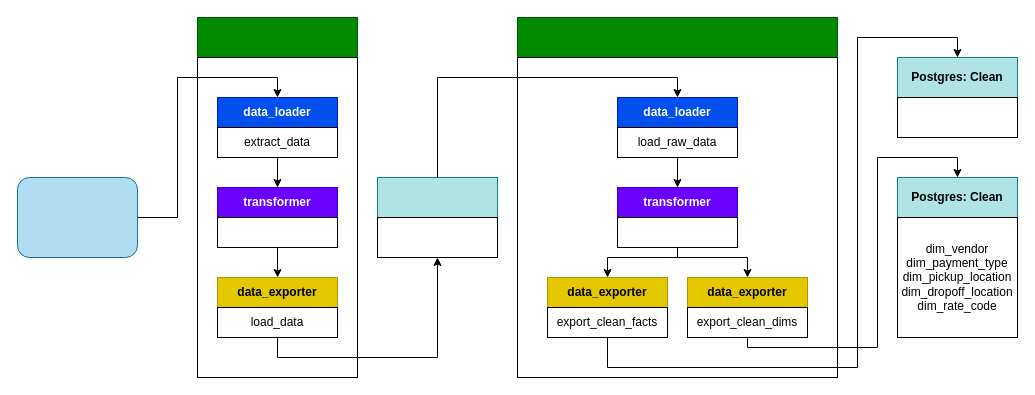
The diagram is 1035 pixels wide and 395 high, and some of its shapes have lost their labels. Each missing label, with the centre of its shape:
"fact_taxi_trips" belongs at (x=957, y=117).
"NY Taxi Source (Parquet)" belongs at (x=77, y=217).
"ny_taxi_trips" belongs at (x=437, y=237).
"Pipeline 1: ny_taxi_etl" belongs at (x=277, y=37).
"Pipeline 2: ny_taxi_clean_etl" belongs at (x=677, y=37).
"Postgres: Raw" belongs at (x=437, y=197).
"transform_clean_data" belongs at (x=677, y=232).
"transform_data" belongs at (x=277, y=232).
